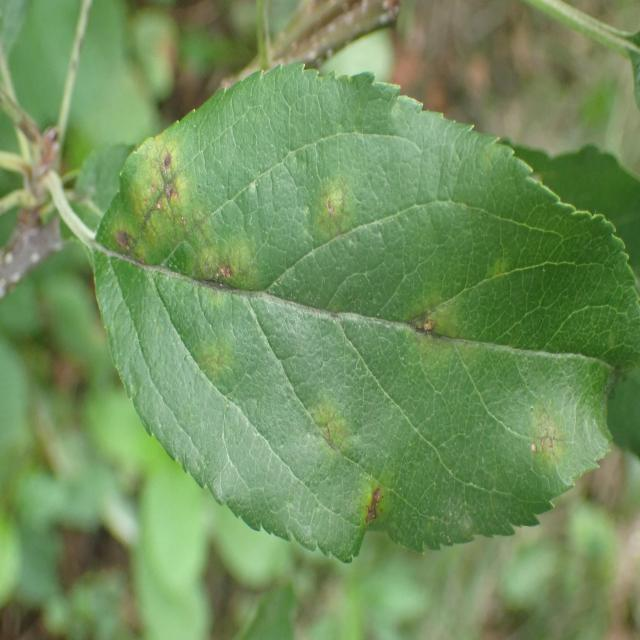scab: (106, 126, 586, 518)
